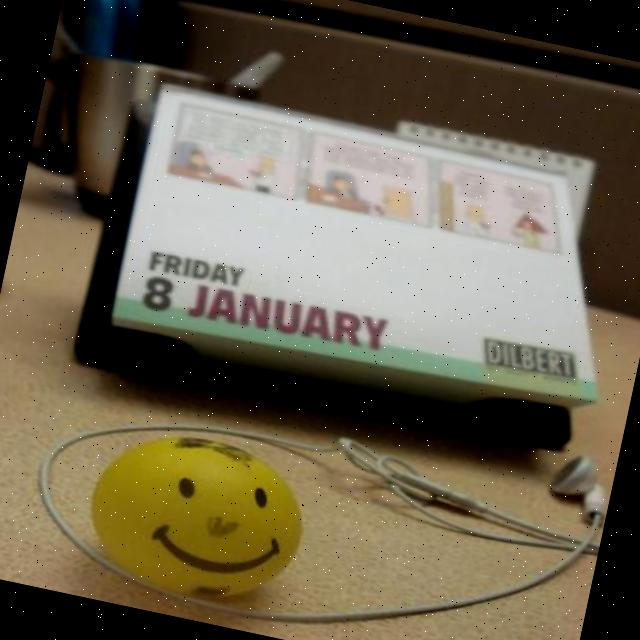ping-pong-ball: (76, 415, 322, 619)
